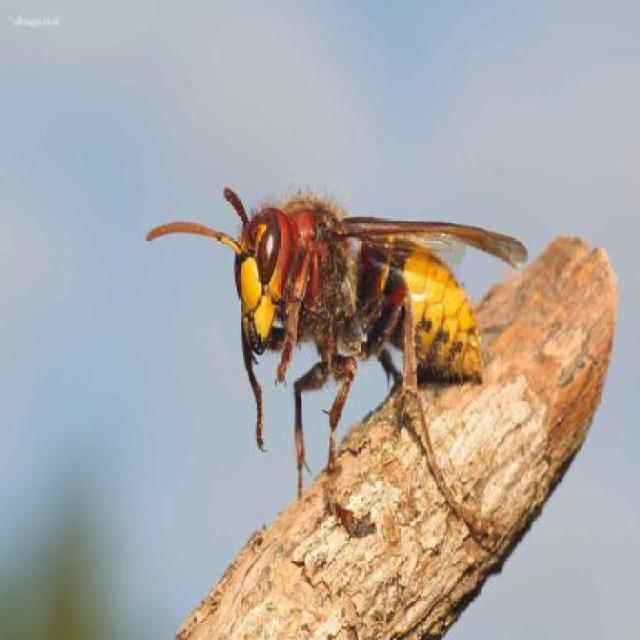Wasp: (135, 162, 524, 561)
